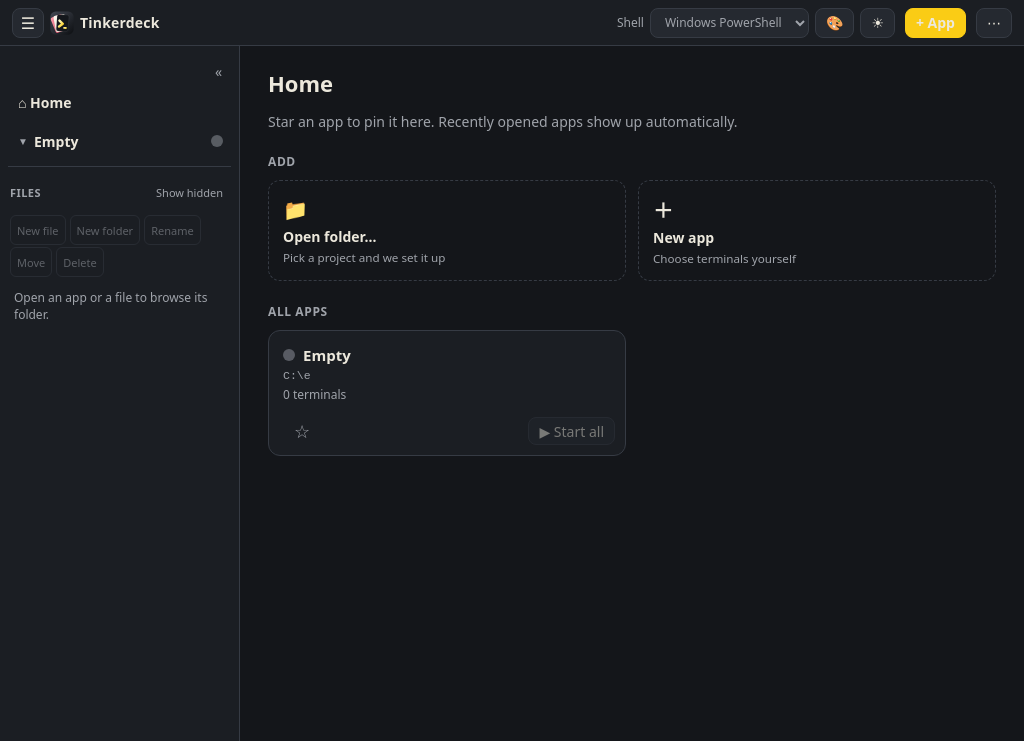
App › an app with no terminals shows its own empty state
Click the button "Empty C:\\e 0 terminals": (327,355) x1=269 y1=331 x2=625 y2=411
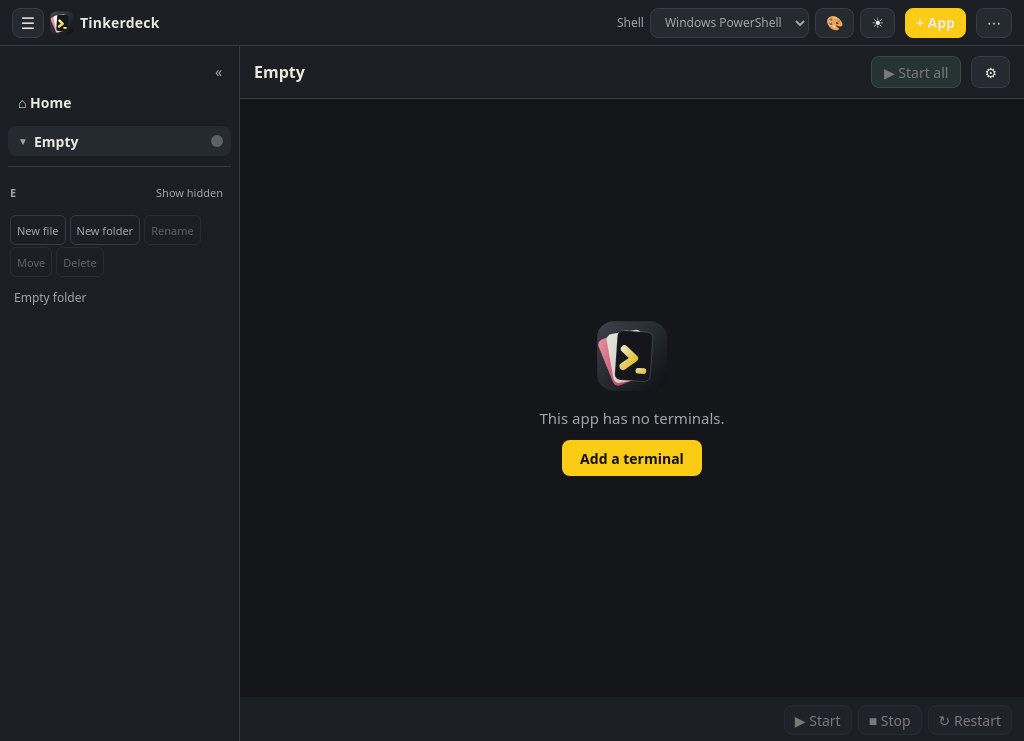
Now the heading "Empty" is shown, box x1=254 y1=61 x2=305 y2=83
Now the text "This app has no terminals." is shown, box x1=540 y1=408 x2=725 y2=428
Now the button "Add a terminal" is shown, box x1=562 y1=440 x2=702 y2=476
